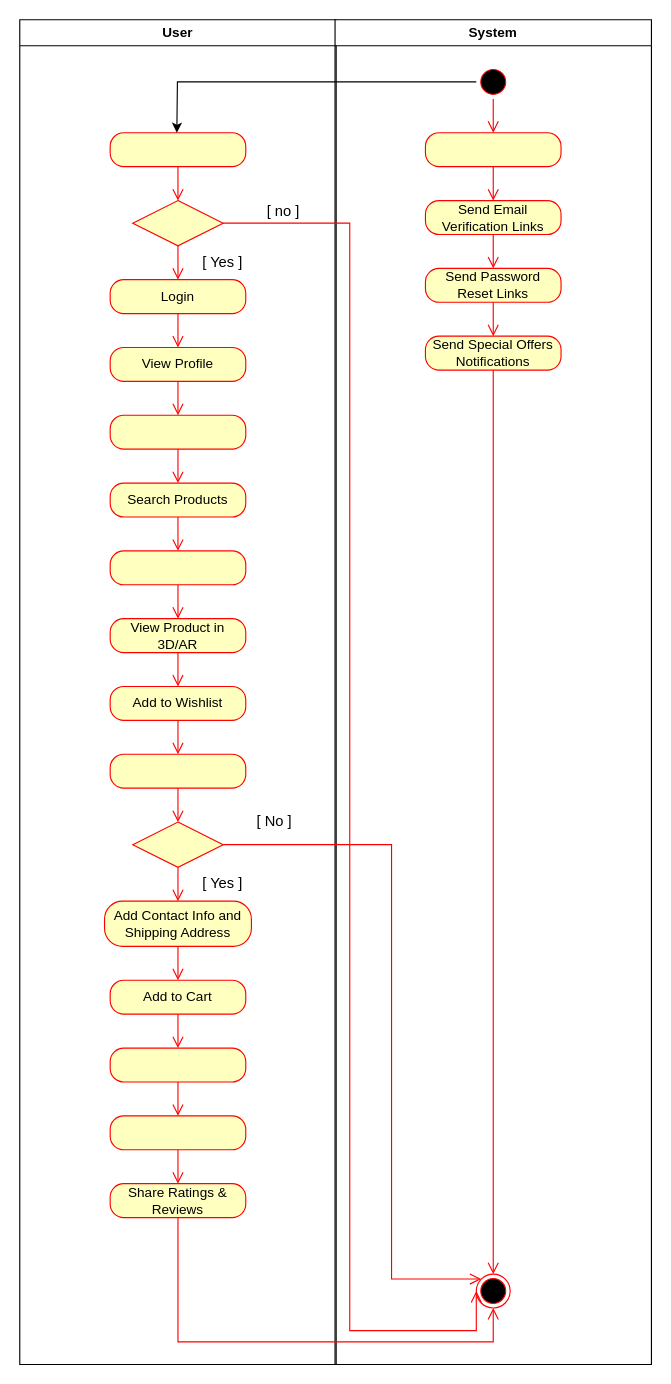
Some shapes in this 671 by 1384 pixel diagram are drawn without their labels. Here are the shapes that lost their labels. From the top down, the centre of each, then its label:
the point at 177,149: Register
the point at 492,149: Authorize Users
the point at 177,431: Edit Profile
the point at 177,567: View Product Details
the point at 177,770: Check Product Availibility
the point at 177,1064: Track Delivery Status
the point at 177,1132: Make Payment
